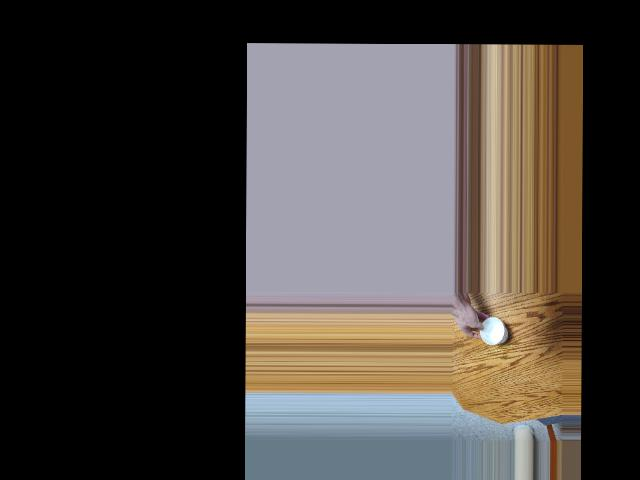cotage: (475, 312, 507, 349)
